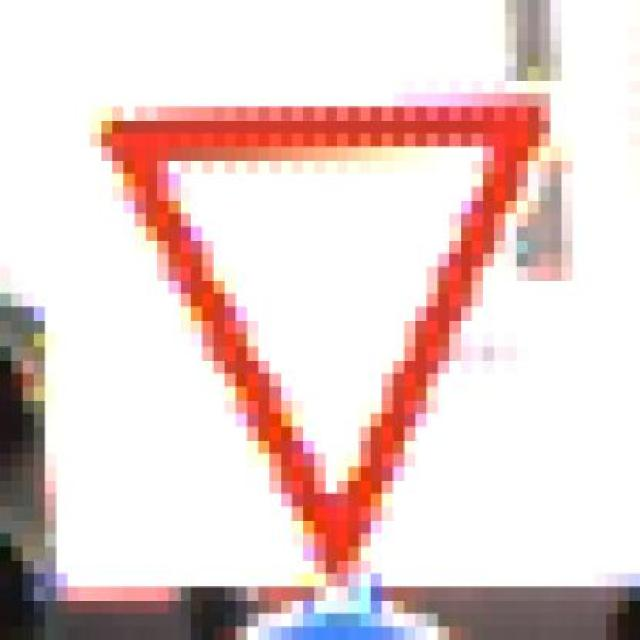Give Way: (79, 93, 596, 601)
